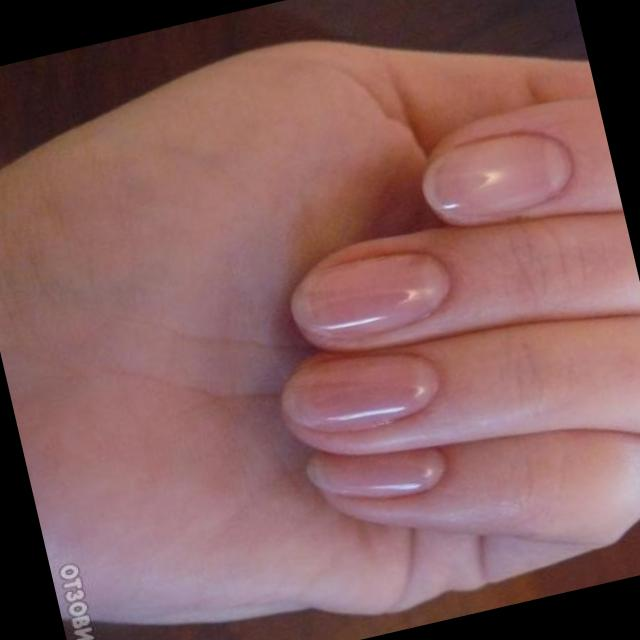Nail: (290, 252, 449, 344), (422, 133, 569, 224), (281, 355, 439, 432), (305, 447, 445, 498)
